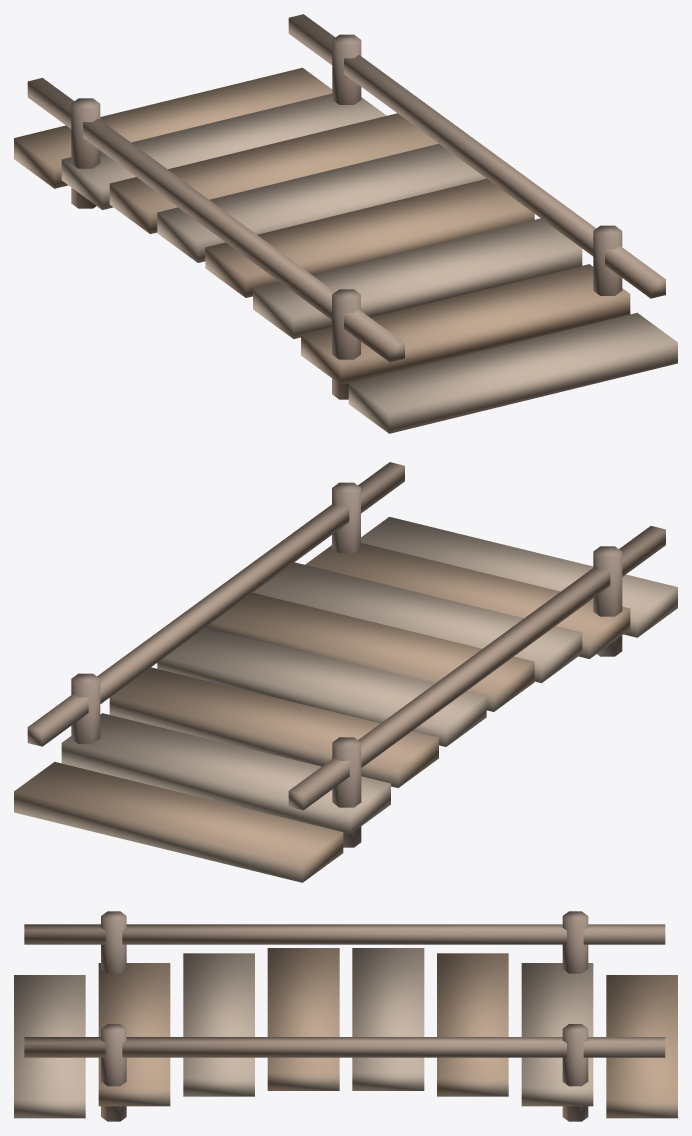
Rendered from bridge.glb.
3 views of the same model, one above another, from view 1: azimuth 30°, elevation 25°; view 2: azimuth 150°, elevation 25°; view 3: azimuth 270°, elevation 25° (orthographic). The views are drawn at different scales.
Visible parts, largest first — view 1: Deck, Rail.001, Rail, Post.001, Post, Post.002, Post.003; view 2: Deck, Rail.001, Rail, Post, Post.001, Post.003, Post.002; view 3: Deck, Rail.001, Rail, Post.003, Post.002, Post.001, Post.
Part boxes in pixels (box(x1,y1,x2,y2)): Deck: box(14, 67, 677, 433); Rail.001: box(288, 14, 665, 298); Rail: box(27, 78, 404, 362); Post.001: box(71, 98, 100, 208); Post: box(332, 289, 360, 399); Post.002: box(593, 225, 622, 295); Post.003: box(332, 34, 361, 104); Deck: box(14, 517, 677, 882); Rail.001: box(27, 462, 404, 746); Rail: box(288, 526, 665, 810); Post: box(593, 546, 622, 656); Post.001: box(332, 737, 361, 847); Post.003: box(71, 673, 100, 743); Post.002: box(332, 482, 360, 552); Deck: box(14, 948, 677, 1118); Rail.001: box(24, 1037, 665, 1057); Rail: box(24, 924, 665, 944); Post.003: box(562, 1024, 588, 1121); Post.002: box(101, 1024, 126, 1121); Post.001: box(562, 911, 588, 973); Post: box(101, 911, 126, 973).
Bounding box in the file's own units: 1.15 × 0.38 × 2.59.
